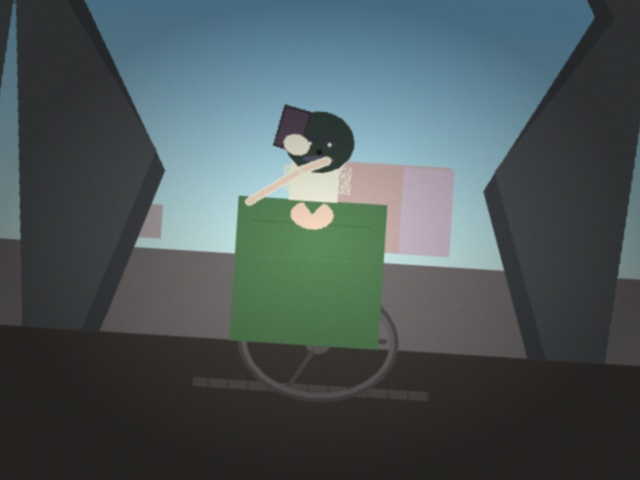phone_usage: (264, 102, 307, 161)
